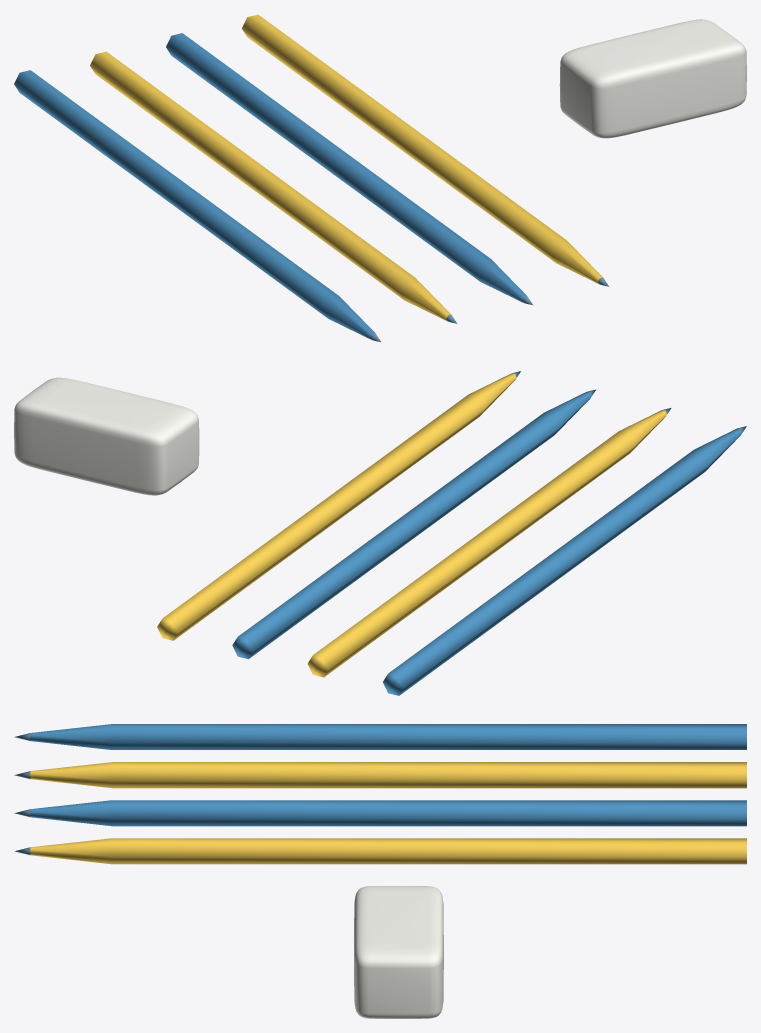
File: drawing_pencils.glb
3 renders of one model, top to bottom at view 1: azimuth 30°, elevation 25°; view 2: azimuth 150°, elevation 25°; view 3: azimuth 270°, elevation 25°, orthographic. The views are drawn at different scales.
Parts seen in each view (by area): view 1: Eraser, Pencil_0, Pencil_2, Pencil_3, Pencil_1; view 2: Eraser, Pencil_3, Pencil_1, Pencil_2, Pencil_0; view 3: Pencil_2, Pencil_1, Pencil_3, Pencil_0, Eraser.
Part boxes in pixels (x1,y1,x2,y2): Eraser: (559,19,746,138); Pencil_0: (14,70,374,339); Pencil_2: (166,33,526,302); Pencil_3: (242,14,602,284); Pencil_1: (90,51,450,321); Eraser: (14,377,199,495); Pencil_3: (157,373,516,640); Pencil_1: (307,410,667,677); Pencil_2: (232,391,591,659); Pencil_0: (383,428,742,695); Pencil_2: (30,800,746,826); Pencil_1: (30,762,746,788); Pencil_3: (30,838,746,864); Pencil_0: (30,724,746,749); Eraser: (354,886,443,1018).
Size of the model in its own units: 0.1587 by 0.018 by 0.179.
